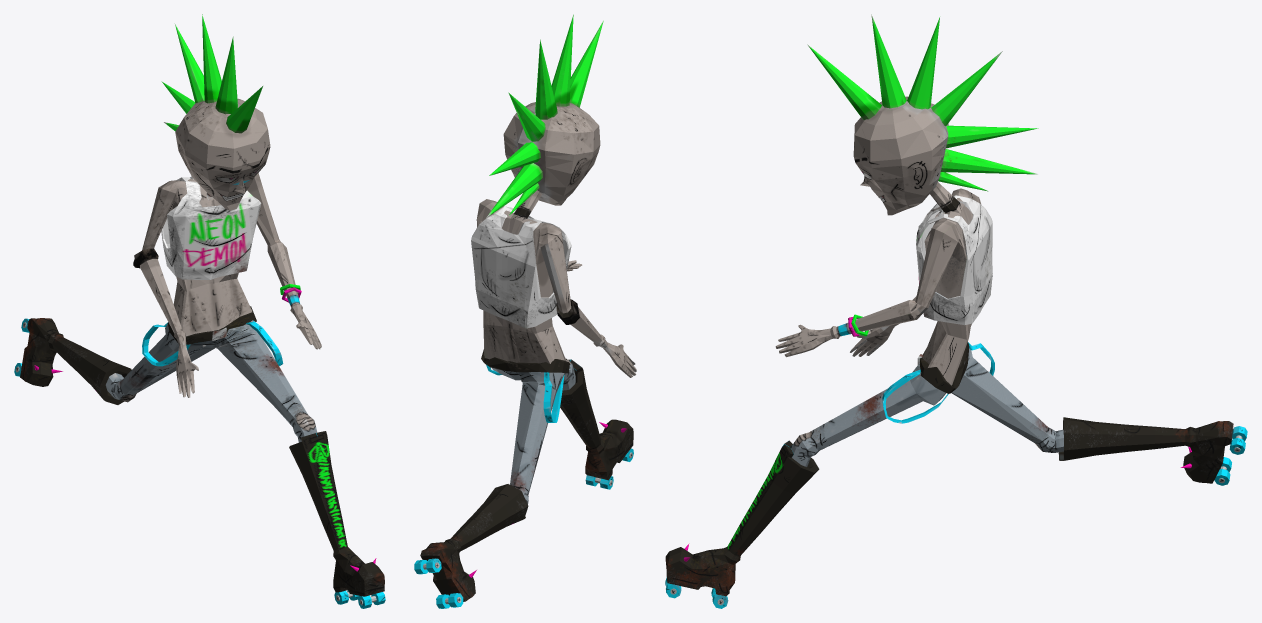
File: punkAnimation_000038.obj
3 renders of one model, left to right at view 1: azimuth 30°, elevation 25°; view 2: azimuth 150°, elevation 25°; view 3: azimuth 270°, elevation 25°, orthographic. The views are drawn at different scales.
Visible parts, largest first — view 1: Cube.004_Cube.003; view 2: Cube.004_Cube.003; view 3: Cube.004_Cube.003.
Part boxes in pixels (x1,y1,x2,y2): Cube.004_Cube.003: (14, 14, 385, 608); Cube.004_Cube.003: (414, 14, 636, 608); Cube.004_Cube.003: (665, 14, 1247, 608).
Size of the model in its own units: 1.65 by 6.47 by 6.03.
